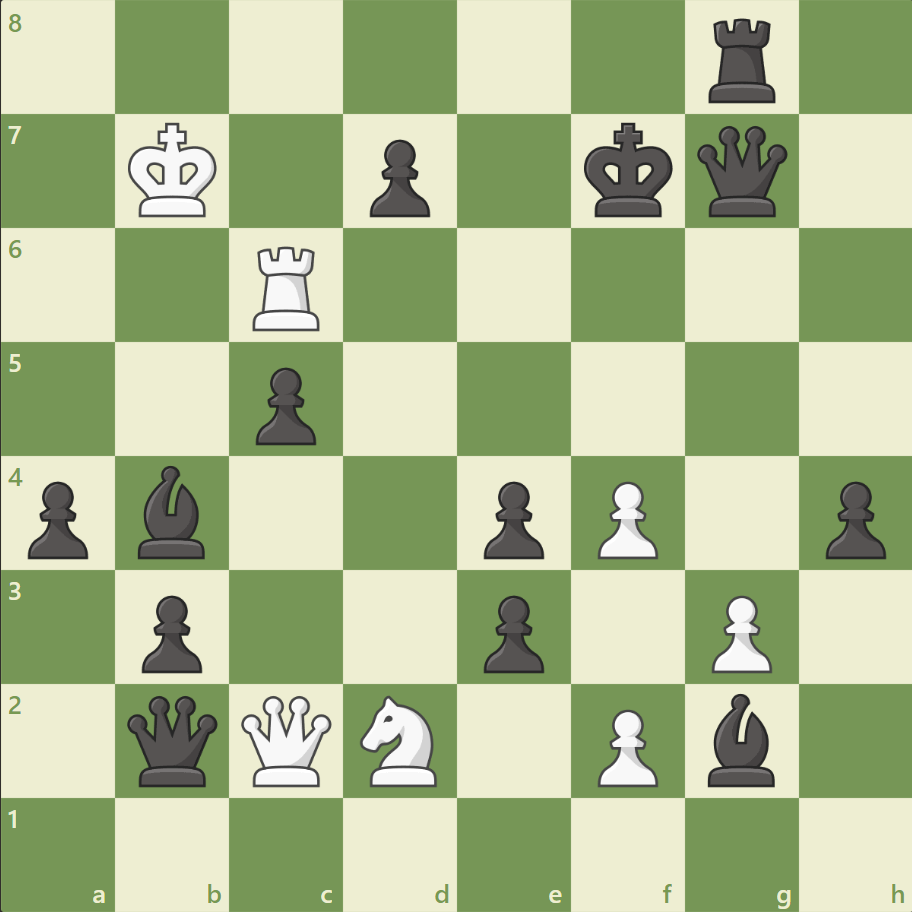K: (124, 117, 224, 225)
N: (351, 688, 449, 791)
P: (701, 586, 776, 677), (588, 473, 662, 564), (588, 700, 662, 791)
Q: (237, 690, 336, 789)
R: (246, 239, 329, 336)
b: (131, 460, 215, 563), (698, 687, 782, 790)
k: (579, 117, 679, 225)
p: (247, 359, 322, 450), (20, 473, 95, 564), (474, 473, 549, 564), (133, 586, 208, 677), (474, 586, 549, 677), (361, 132, 435, 223), (815, 473, 889, 564)
q: (691, 122, 790, 222), (124, 690, 223, 789)
r: (700, 12, 783, 109)
